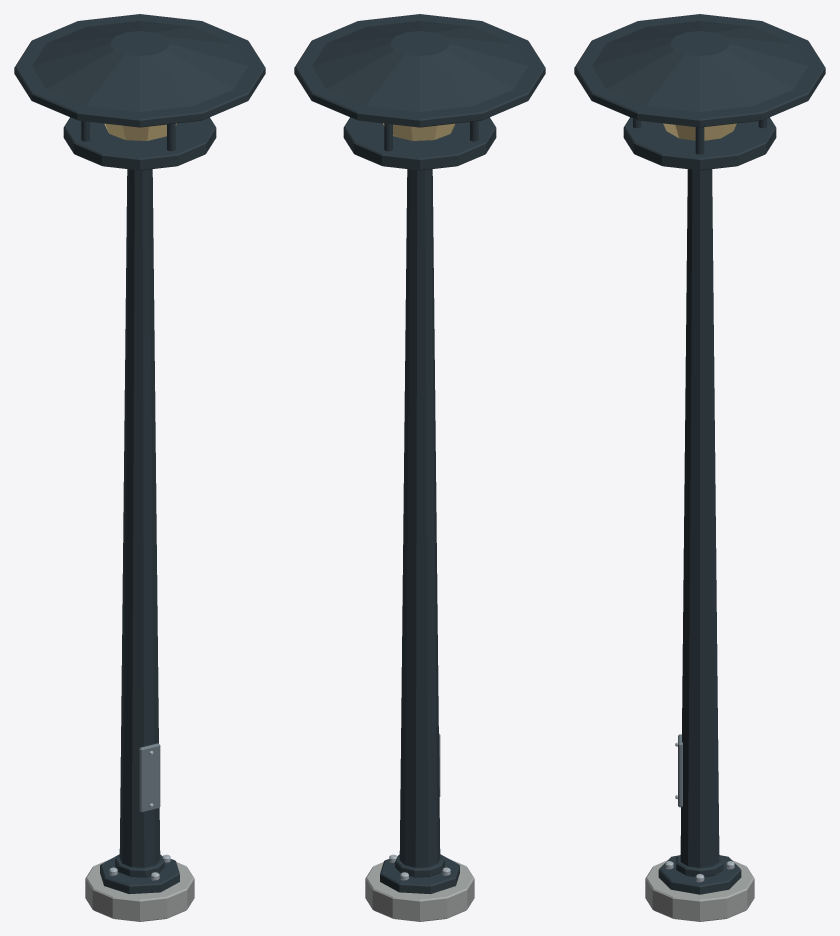
The model's file is b18_shielded_mushroom_posttop.glb.
3 views of the same model, side by side, from view 1: azimuth 30°, elevation 25°; view 2: azimuth 150°, elevation 25°; view 3: azimuth 270°, elevation 25° (orthographic).
Parts seen in each view (by area): view 1: b18_shielded_mushroom_posttop; view 2: b18_shielded_mushroom_posttop; view 3: b18_shielded_mushroom_posttop.
Part boxes in pixels (bbox=[...]): b18_shielded_mushroom_posttop: bbox=[14, 14, 265, 921]; b18_shielded_mushroom_posttop: bbox=[294, 14, 545, 921]; b18_shielded_mushroom_posttop: bbox=[574, 14, 825, 921].
Bounding box in the file's own units: 0.92 × 3.46 × 0.92.
